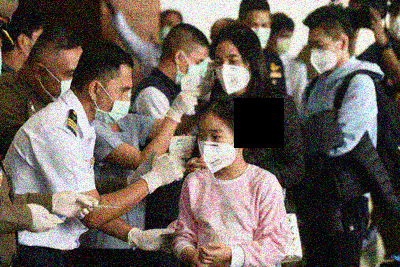with_mask: (199, 126, 239, 174), (214, 51, 252, 96), (47, 61, 81, 103), (102, 83, 133, 125), (311, 37, 339, 72), (181, 54, 208, 86), (245, 19, 273, 46), (272, 33, 292, 55)
